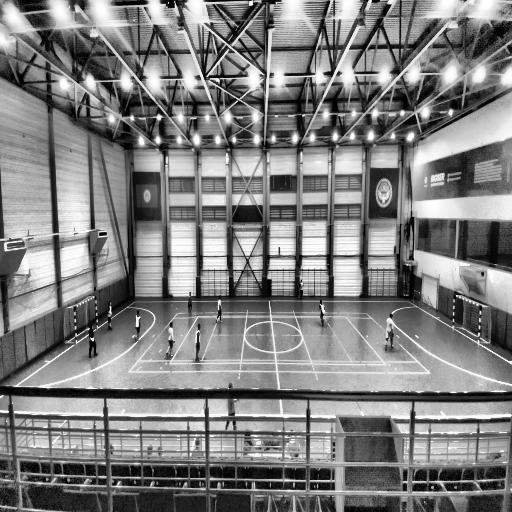ball: (297, 294, 301, 300)
player: (224, 399, 240, 431), (384, 311, 395, 351), (88, 323, 98, 362), (194, 321, 202, 363), (166, 320, 174, 360), (133, 308, 142, 343), (106, 300, 114, 333), (318, 298, 326, 328), (215, 294, 222, 325), (297, 277, 303, 302), (188, 291, 194, 316)
